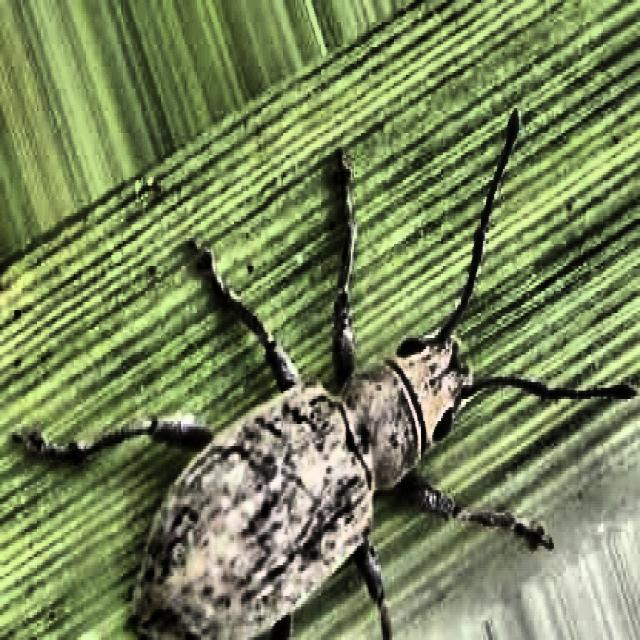Stink bug: (87, 155, 531, 640)
